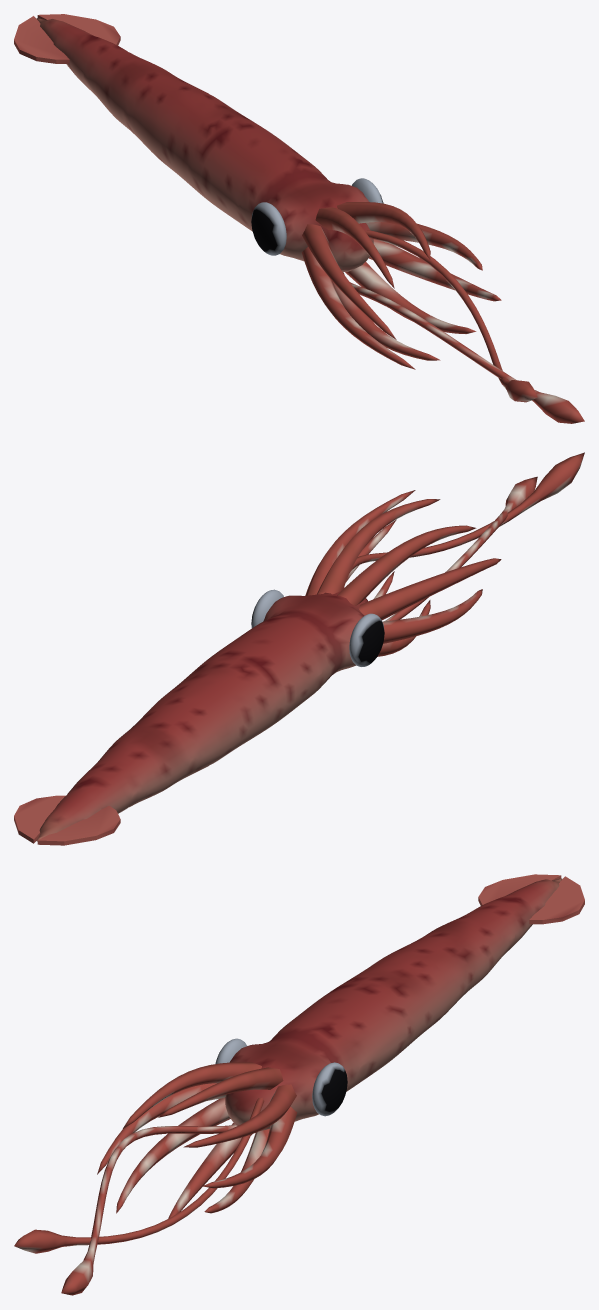
File: ArchiteuthisDux.fbx
The picture shows the model from 3 angles, top to bottom: view 1: azimuth 30°, elevation 25°; view 2: azimuth 150°, elevation 25°; view 3: azimuth 330°, elevation 25°; orthographic projection.
Visible parts, largest first — view 1: ArchiteuthisDux; view 2: ArchiteuthisDux; view 3: ArchiteuthisDux.
Part boxes in pixels (<box>): ArchiteuthisDux: <box>14,14,584,423</box>; ArchiteuthisDux: <box>14,452,584,845</box>; ArchiteuthisDux: <box>14,874,584,1295</box>.
Bounding box in the file's own units: 0.3693 × 0.3374 × 2.7.
